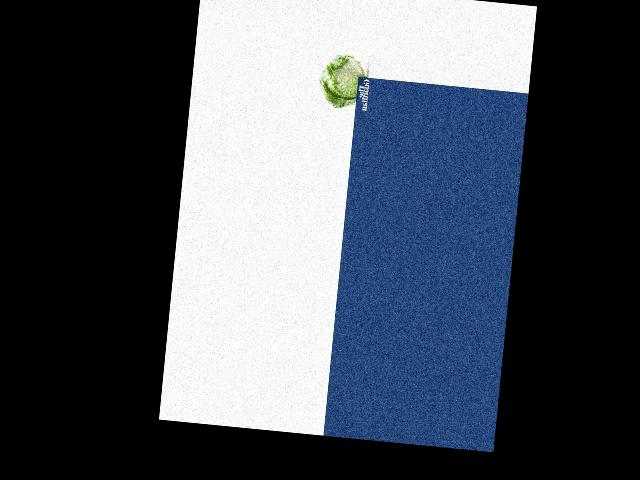lettuce: (314, 53, 366, 108)
